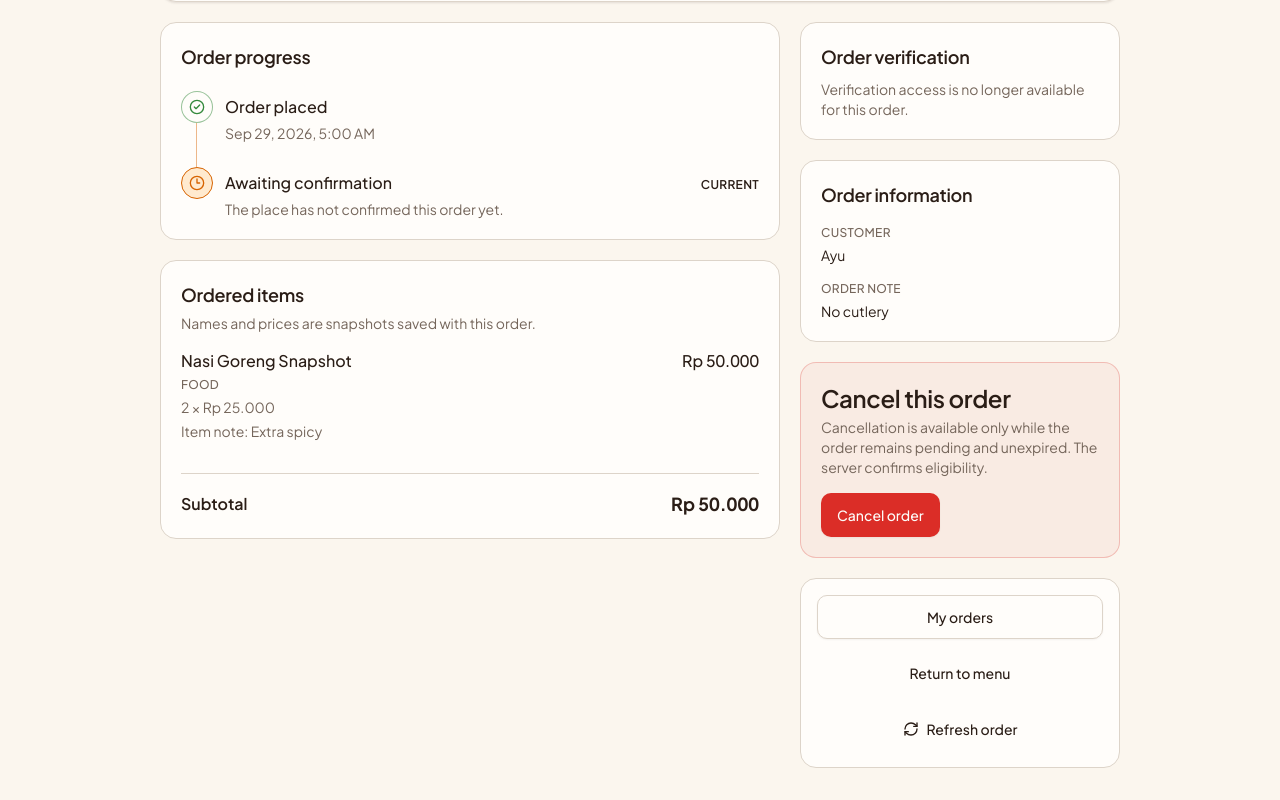
Test: customer order detail page › cancels an eligible pending order with an optional reason and refreshes authoritative detail
(page scrolled)
Click the button "Cancel order": (880, 515) [821,493,940,537]
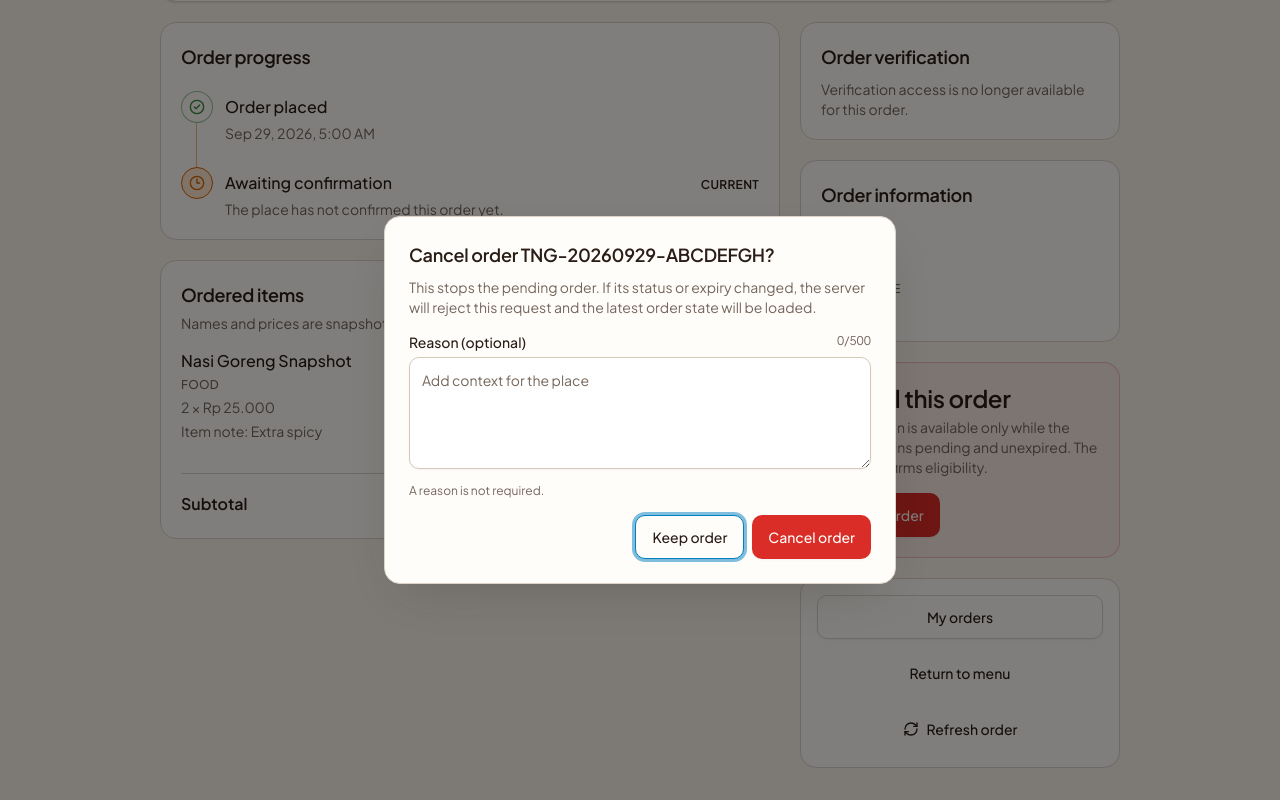
In the text box labelled "Reason (optional)": (640, 413) [409,357,871,469], type "Changed plans"
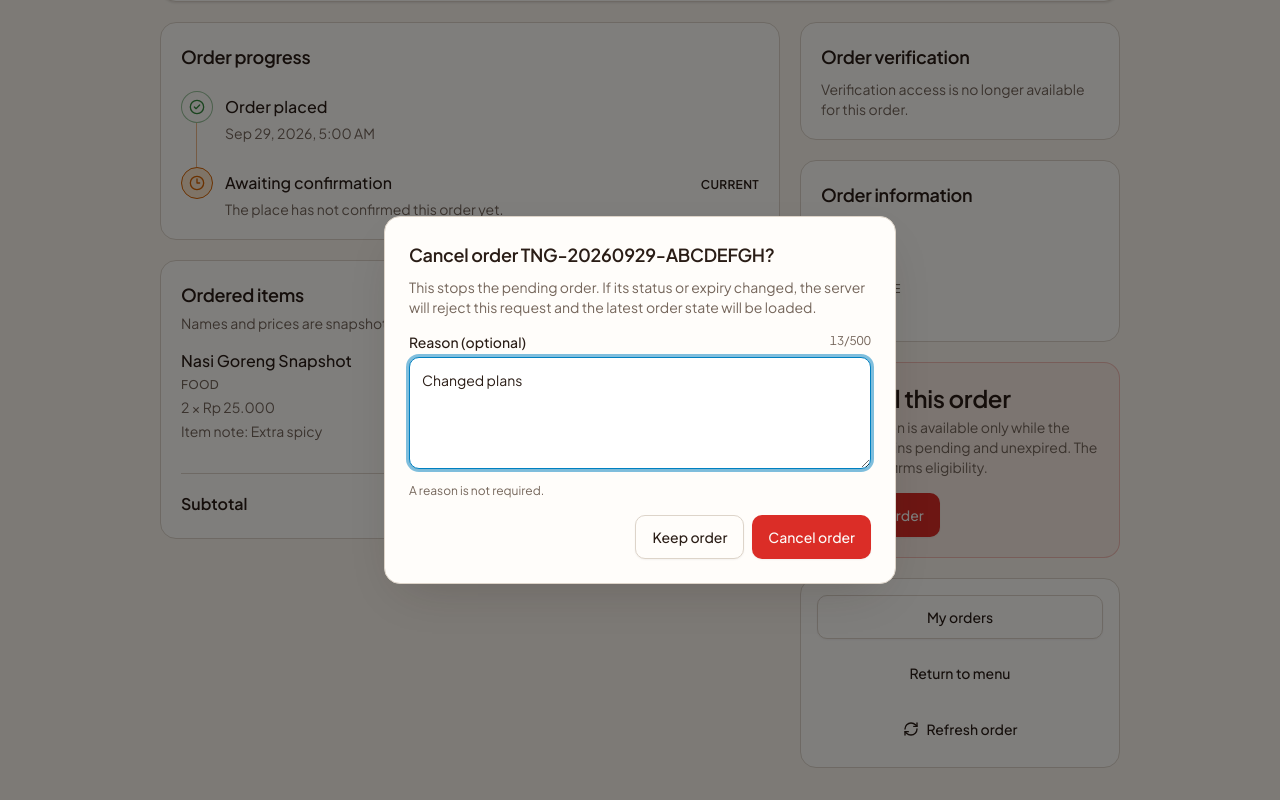
Click the button "Cancel order": (812, 537) [752,515,871,559]
(page scrolled)
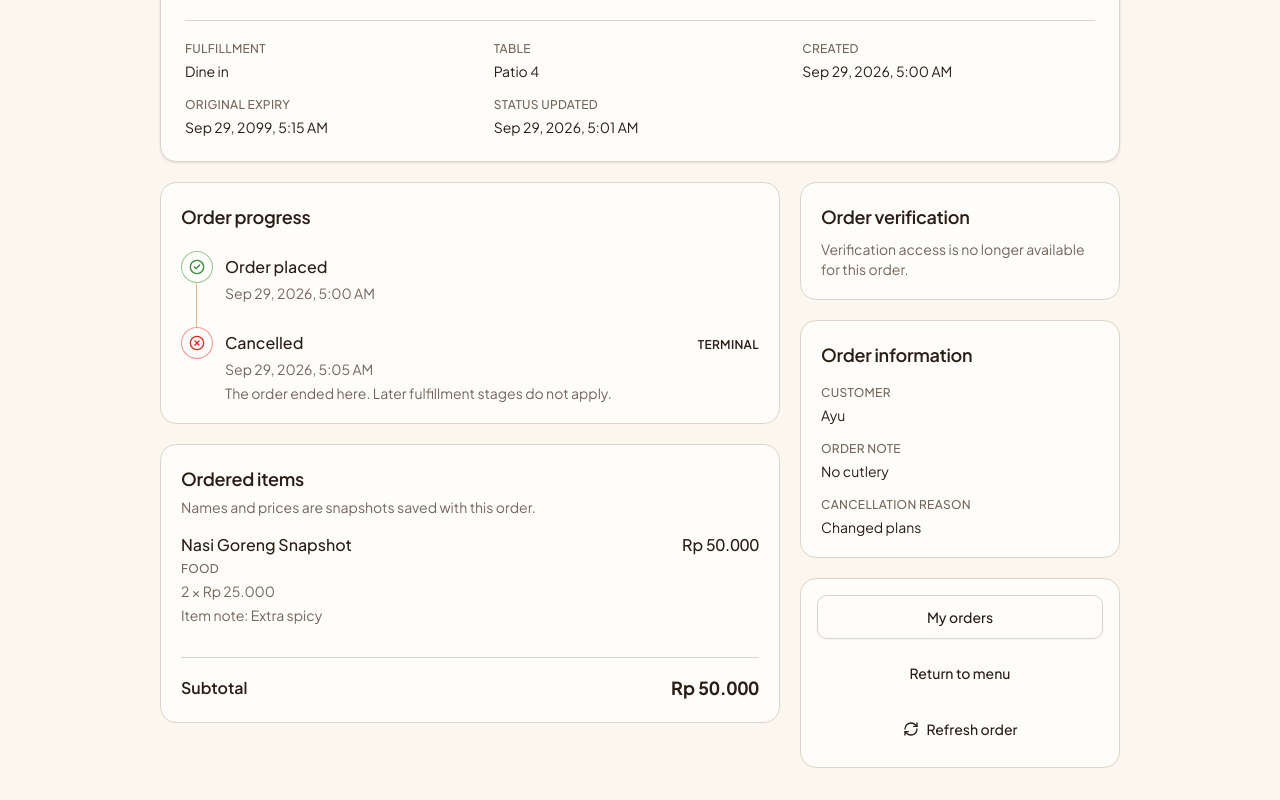
Result: the text "Changed plans" is shown at [821,518,921,536]
Result: the button "Cancel order" is gone
